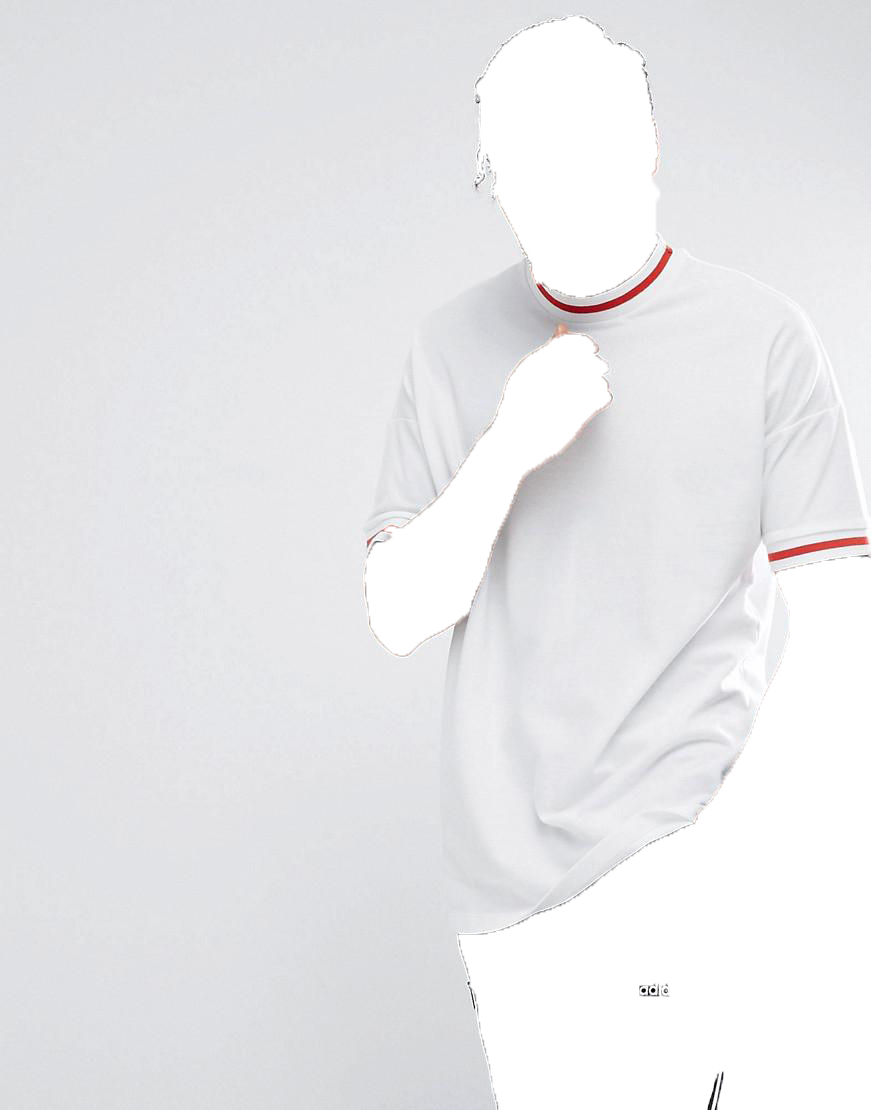teeshirt: (346, 249, 871, 948)
